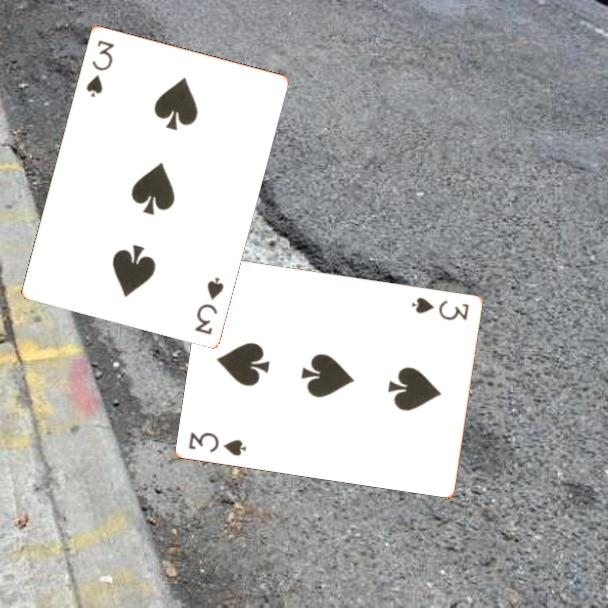s03: (191, 273, 226, 337), (82, 36, 117, 99), (185, 428, 249, 459), (409, 293, 472, 323)
